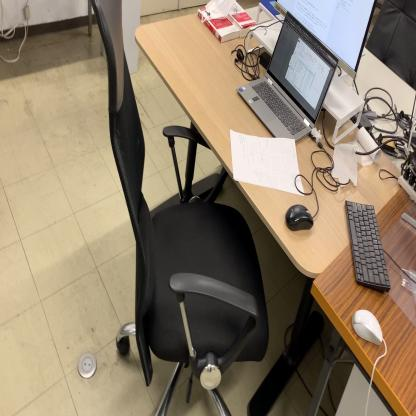chair: (88, 0, 270, 416)
